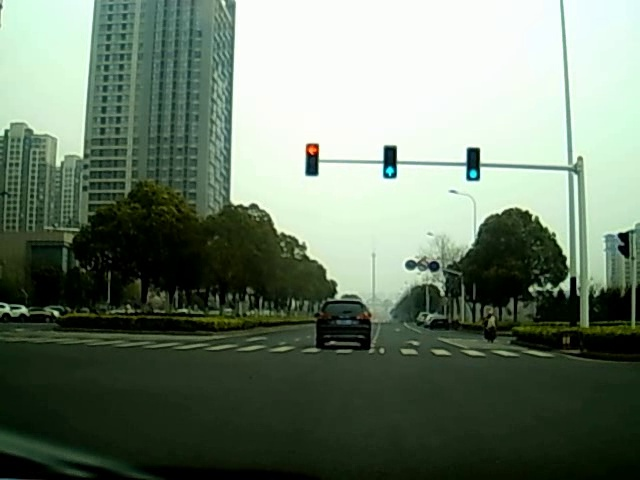Traffic_Light_go: (384, 146, 396, 178), (467, 150, 478, 181)
Traffic_Light_stop: (304, 144, 319, 177)
